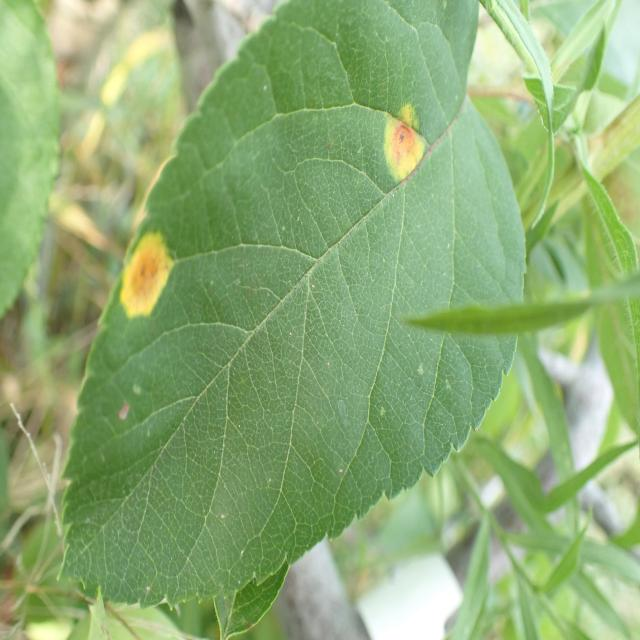Rust: (110, 229, 188, 330), (367, 87, 433, 187)
